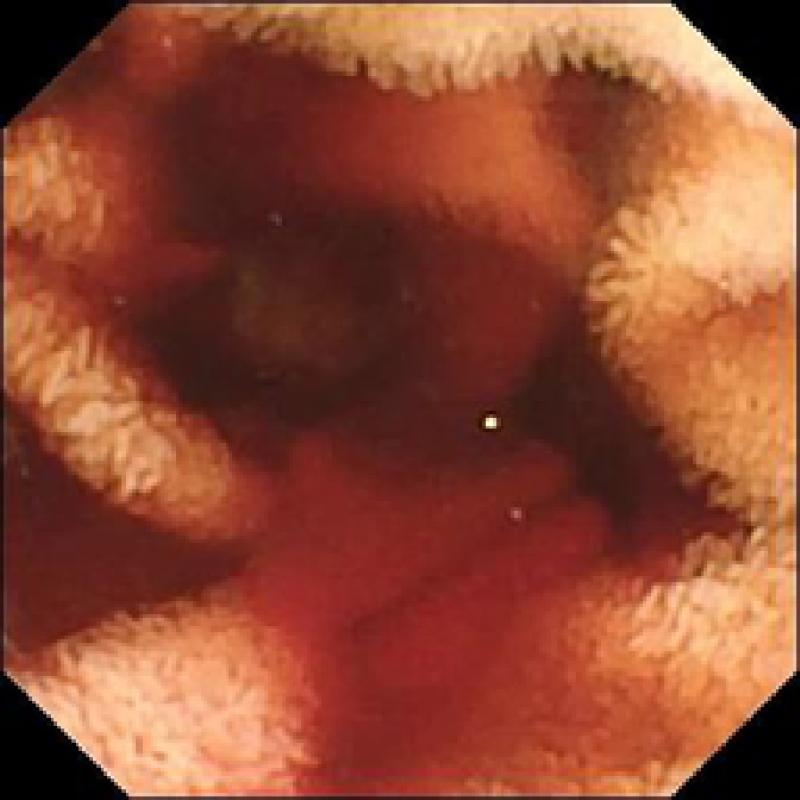bleeding: (233, 421, 610, 791), (75, 28, 416, 304), (421, 216, 553, 407)
